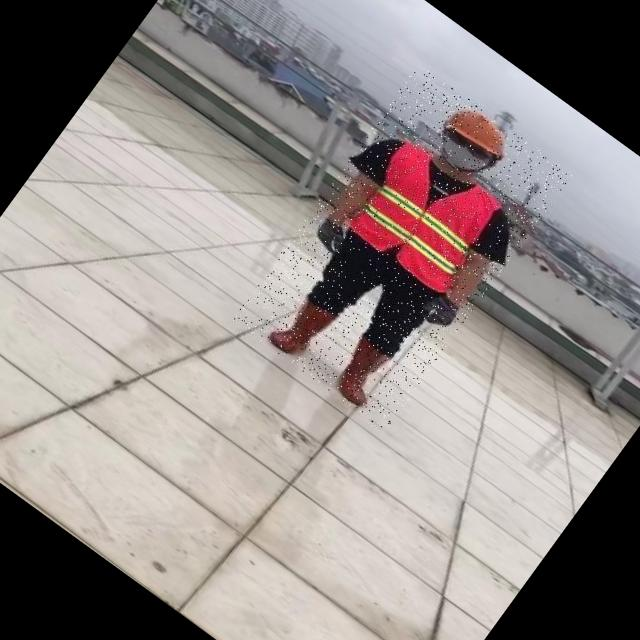hard_hat: (437, 92, 518, 164)
safety_vest: (338, 133, 511, 301)
vehicle: (231, 63, 572, 432)
work_boots: (323, 330, 400, 411), (263, 288, 339, 368)
